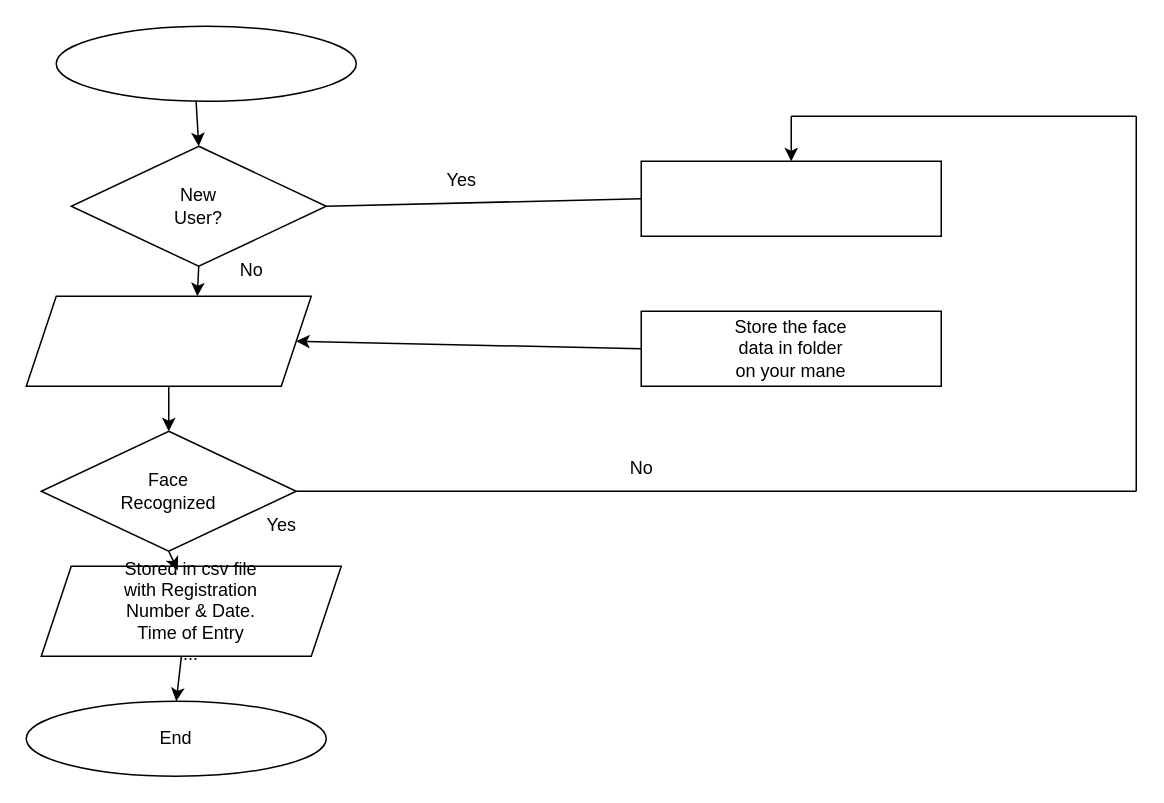
The diagram is 1164 pixels wide and 803 high, and some of its shapes have lost their labels. Each missing label, with the centre of its shape:
"Give your photograph" goes at pixel 790 198.
"Recognize the face" goes at pixel 168 340.
"Start" goes at pixel 205 63.
